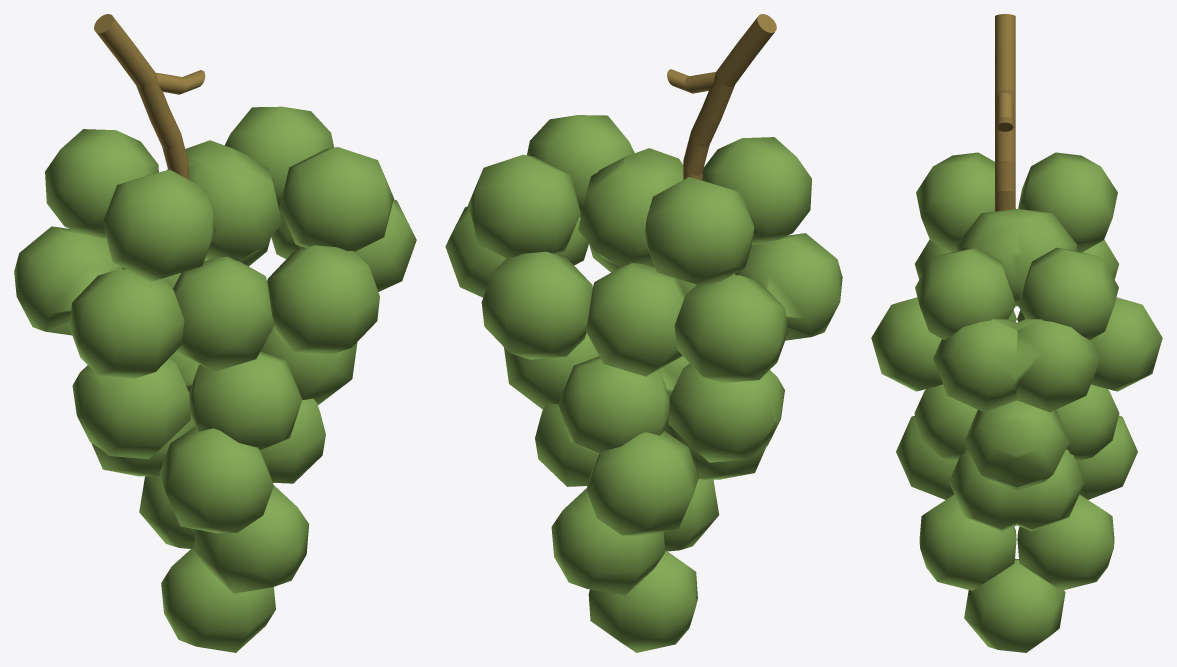
File: grapes.glb
3 renders of one model, left to right at view 1: azimuth 30°, elevation 25°; view 2: azimuth 150°, elevation 25°; view 3: azimuth 270°, elevation 25°, orthographic. The views are drawn at different scales.
Visible parts, largest first — view 1: Sphere011, Cylinder002; view 2: Sphere011, Cylinder002; view 3: Sphere011, Cylinder002.
Part boxes in pixels (bbox=[...]): Sphere011: bbox=[14, 106, 416, 652]; Cylinder002: bbox=[94, 14, 205, 179]; Sphere011: bbox=[445, 115, 842, 652]; Cylinder002: bbox=[667, 14, 776, 180]; Sphere011: bbox=[871, 152, 1162, 652]; Cylinder002: bbox=[995, 14, 1015, 211].
Bounding box in the file's own units: 0.0136 × 0.0252 × 0.0113.
